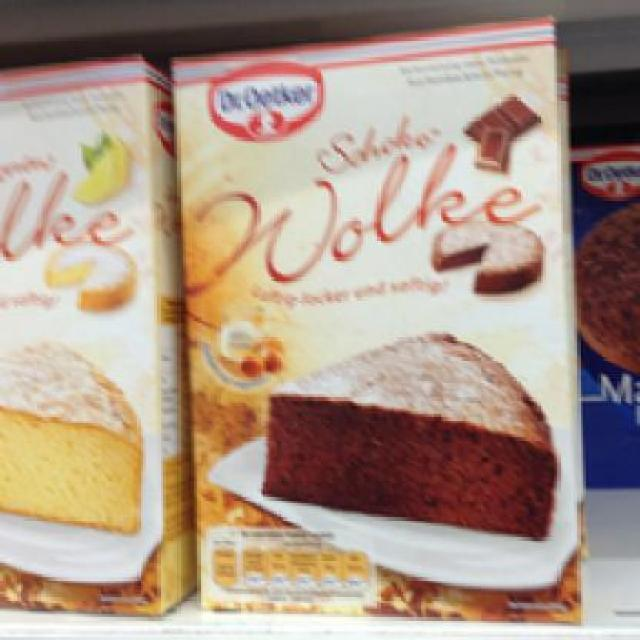Cake: (162, 11, 588, 624), (0, 47, 172, 615)
